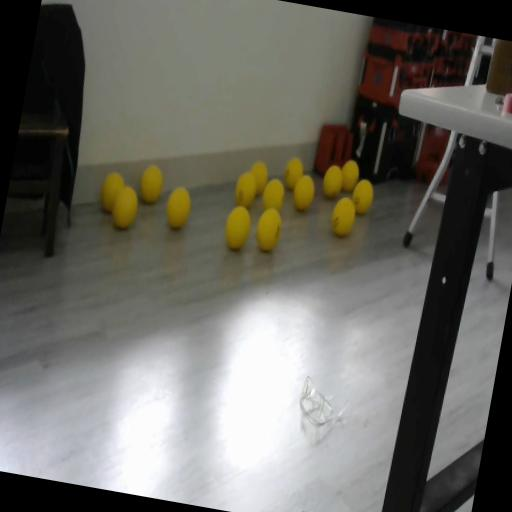FUEL: (220, 202, 254, 252), (252, 204, 284, 253), (162, 184, 194, 231), (328, 192, 359, 238), (97, 168, 127, 214), (136, 161, 166, 205), (348, 176, 376, 216), (259, 175, 287, 214), (290, 172, 317, 212), (245, 158, 271, 198), (280, 154, 306, 190), (320, 162, 344, 200), (338, 158, 361, 192)
